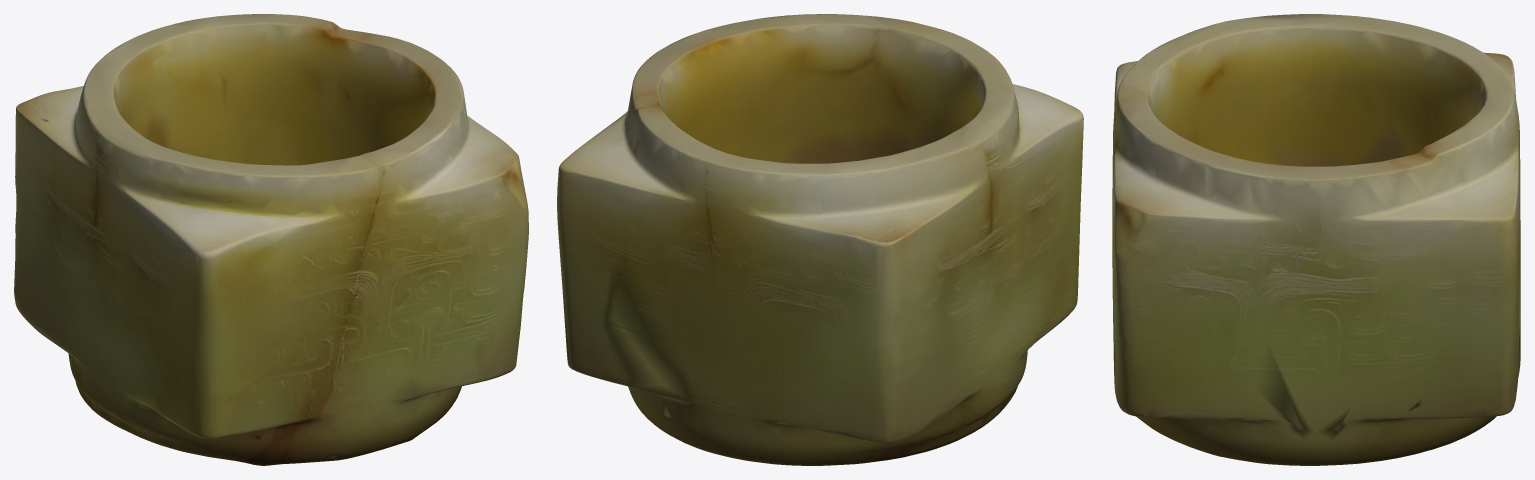
Rendered from zenghouyi-roaming.glb.
3 views of the same model, side by side, from view 1: azimuth 30°, elevation 25°; view 2: azimuth 150°, elevation 25°; view 3: azimuth 270°, elevation 25° (orthographic).
Visible parts, largest first — view 1: node_0; view 2: node_0; view 3: node_0.
Boxes of the visible parts, left/top/right/bottom form: node_0: left=14, top=14, right=528, bottom=465; node_0: left=557, top=14, right=1083, bottom=465; node_0: left=1112, top=14, right=1520, bottom=465.
Size of the model in its own units: 0.8146 by 0.6678 by 0.8279.
1 material, 1 textured.
